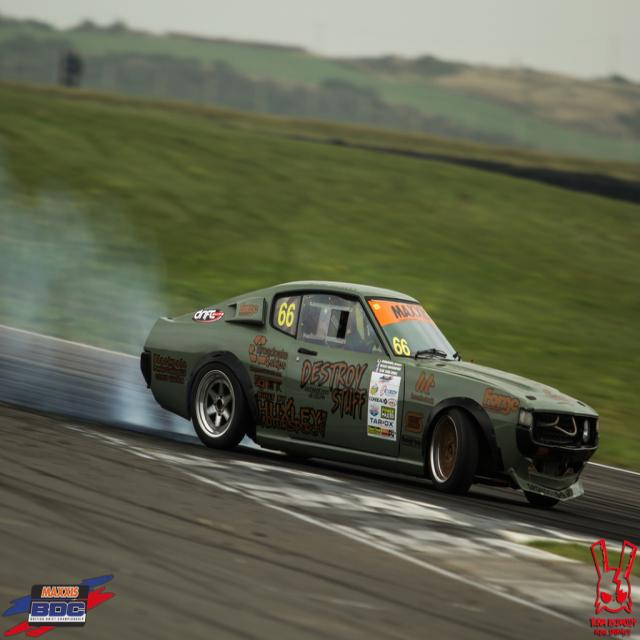car: (138, 276, 601, 496)
